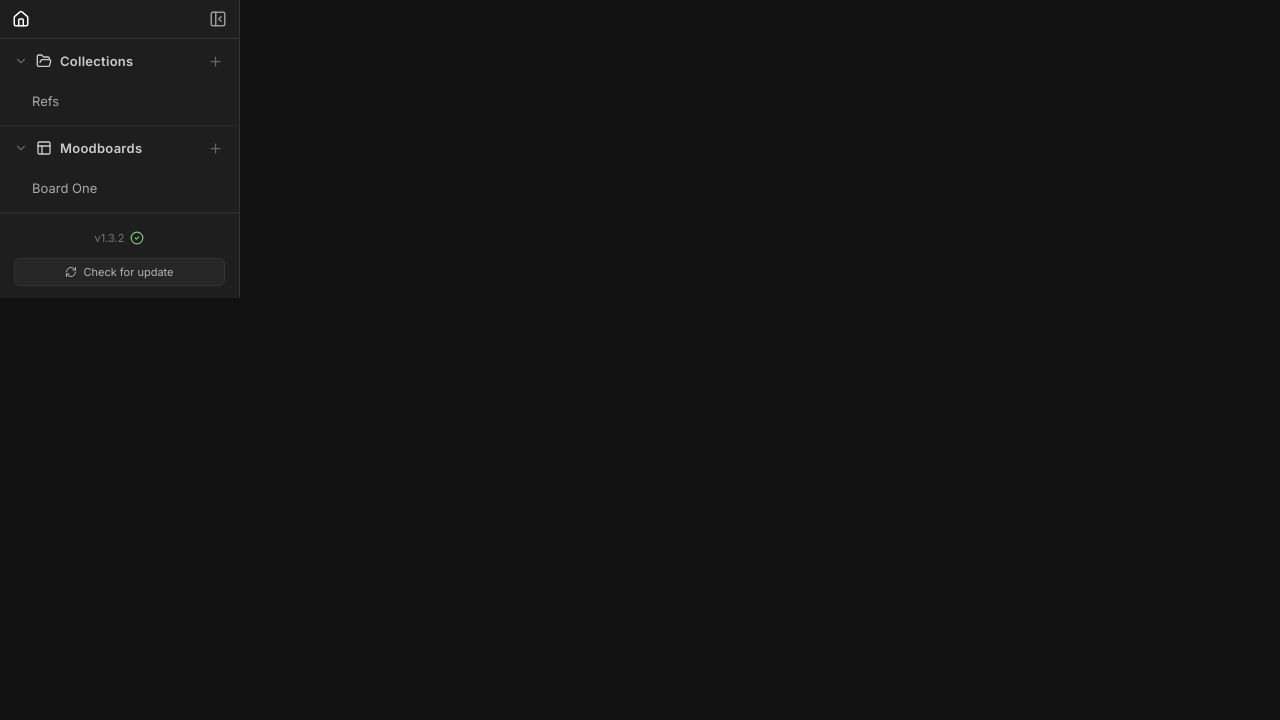
it: Sidebar › closes the dialogs on cancel
Click the button named "Add collection" at (216, 61), box [208,54,223,68]
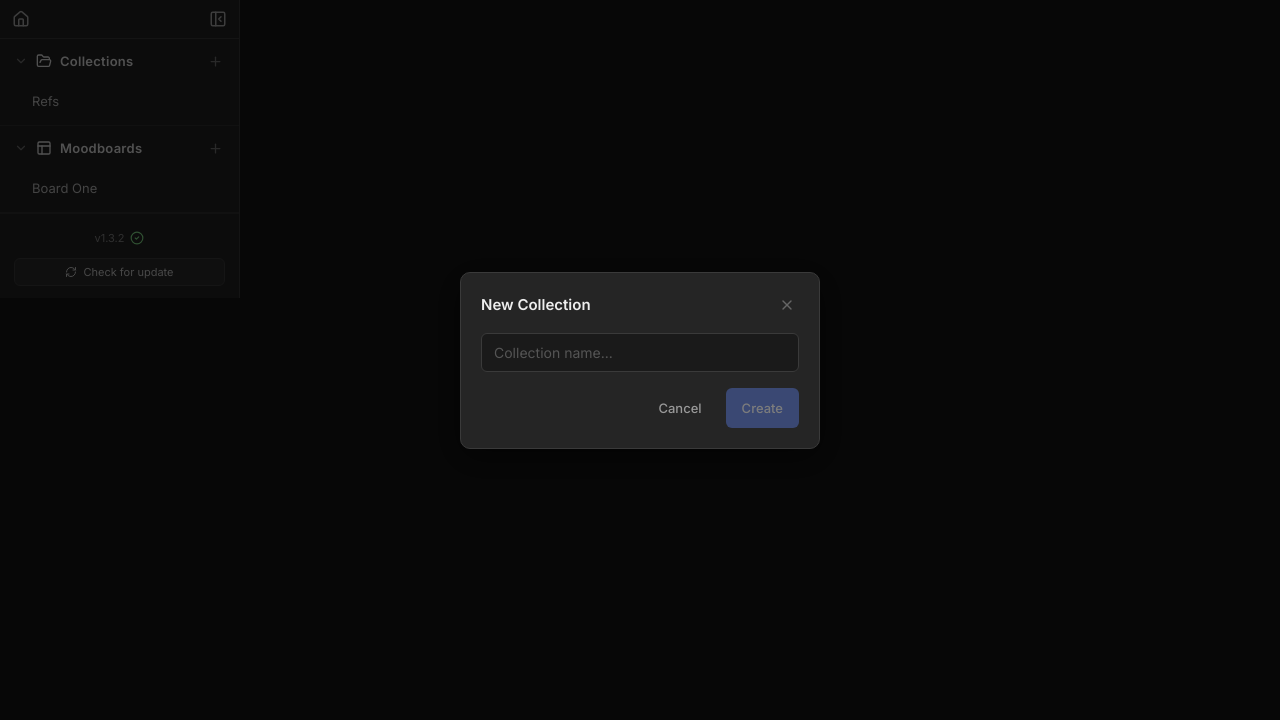
Click the button "Cancel" at (680, 408), box [642,388,718,428]
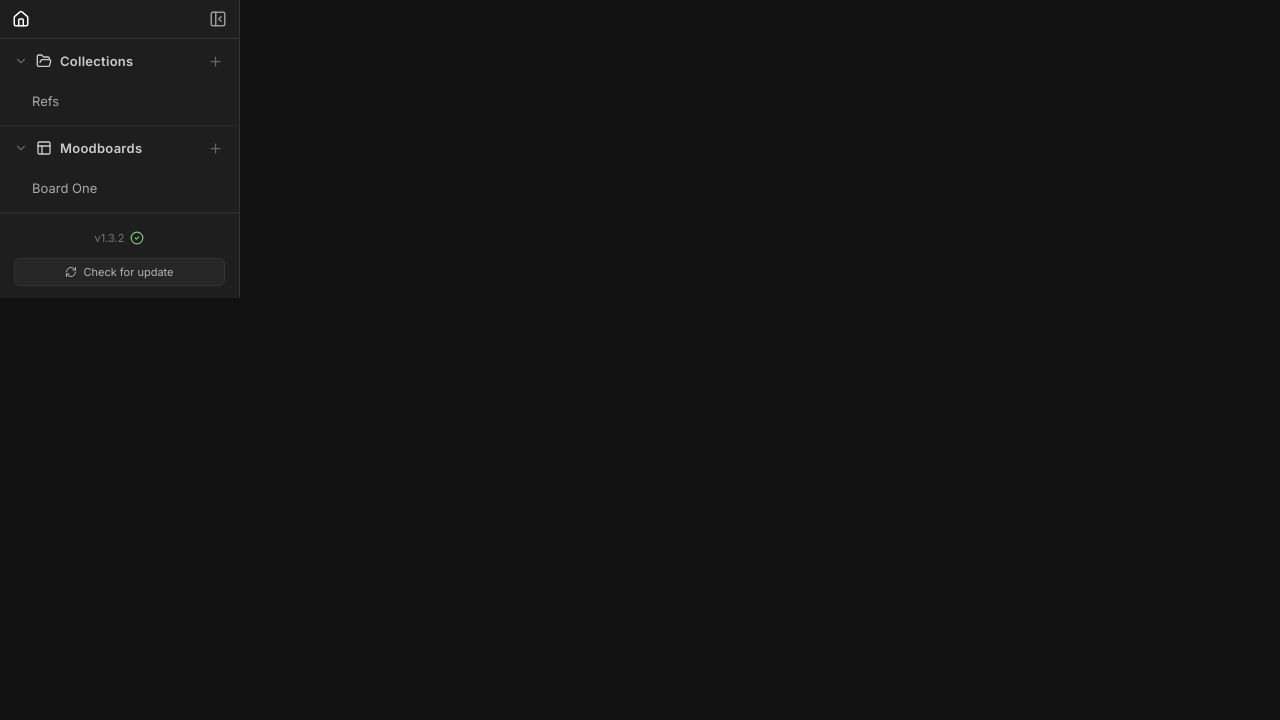
Now the text "New Collection" is gone
Click the button named "Add moodboard" at (216, 148), box [208,140,223,156]
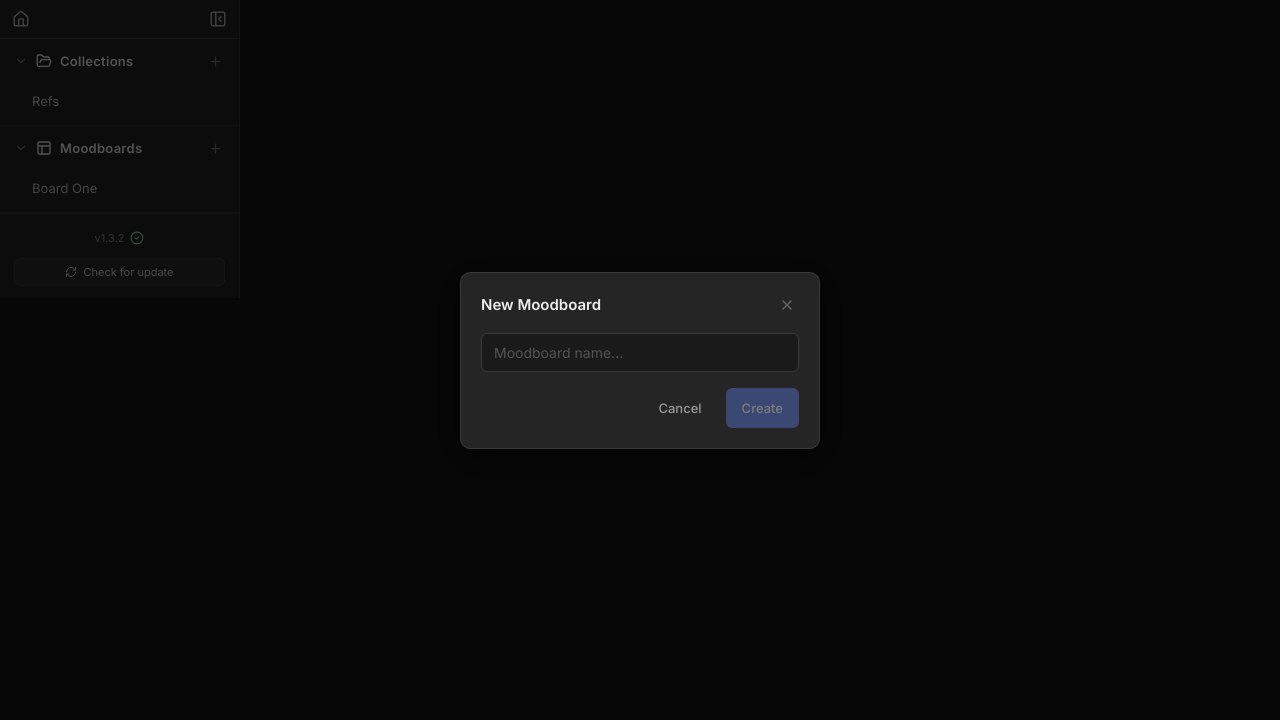
Click the button "Cancel" at (680, 408), box [642,388,718,428]
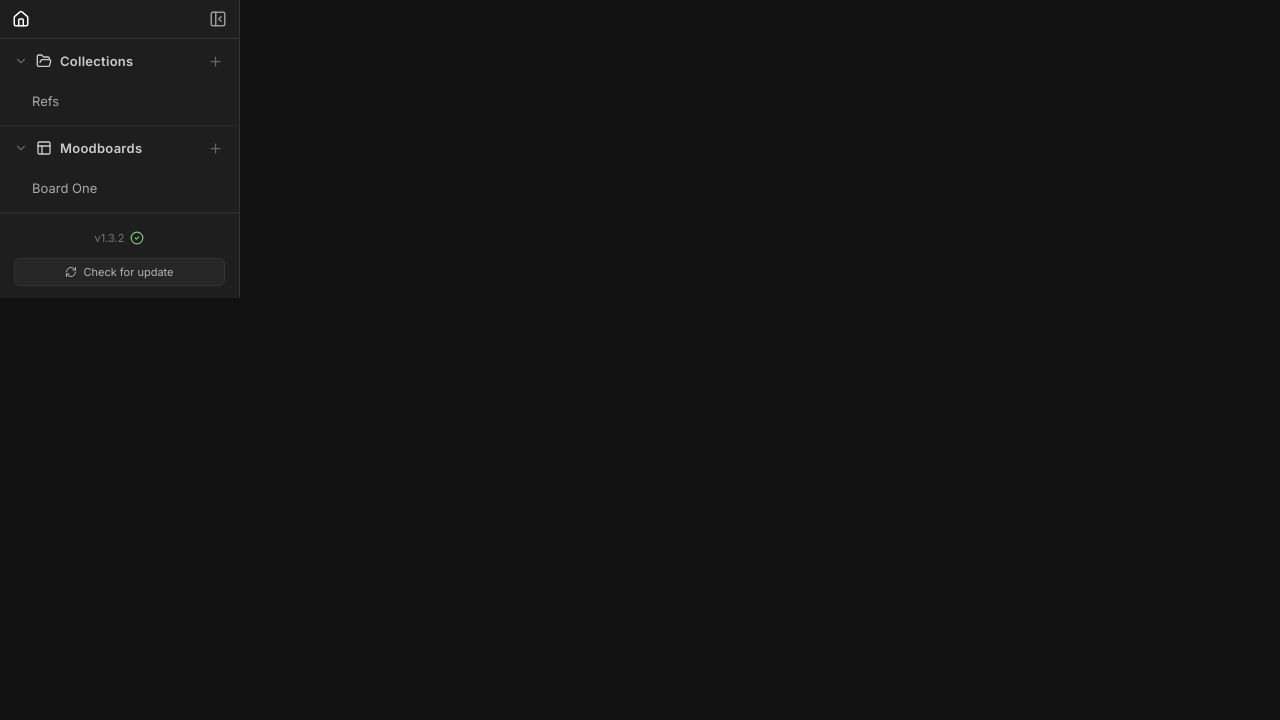
Now the text "New Moodboard" is gone
